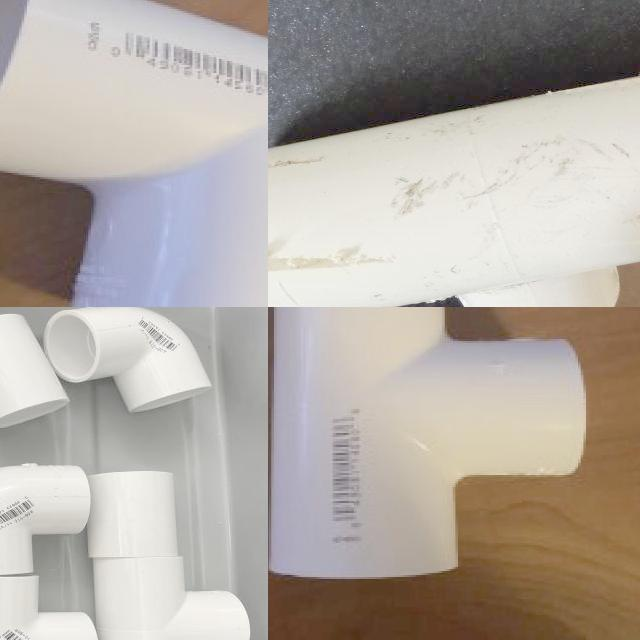Defective: (268, 248, 395, 278), (268, 159, 324, 176)
L Joint: (44, 307, 213, 413), (0, 463, 93, 574), (0, 576, 100, 640)
T Joint: (268, 307, 588, 582), (268, 77, 640, 307), (92, 553, 253, 640)
